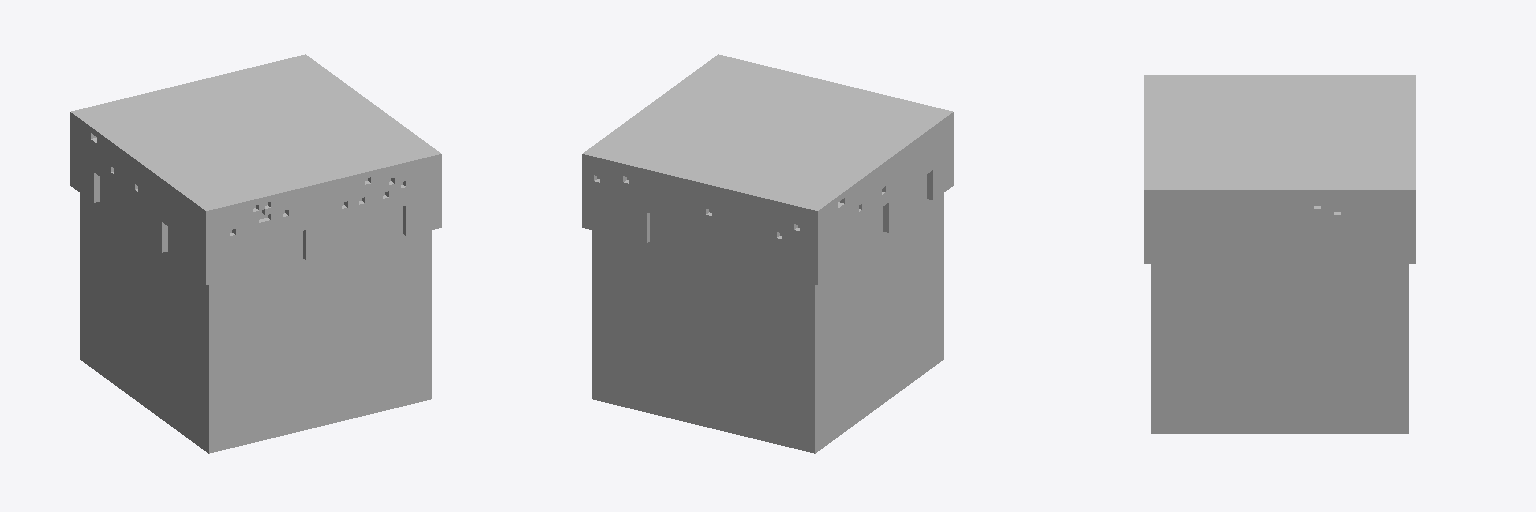
The picture shows the model from 3 angles: view 1: azimuth 30°, elevation 25°; view 2: azimuth 150°, elevation 25°; view 3: azimuth 270°, elevation 25°; orthographic projection.
Parts seen in each view (by area): view 1: test; view 2: test; view 3: test.
Boxes of the visible parts, box(x1,y1,x2,y2) form: test: box(70, 54, 441, 453); test: box(582, 54, 953, 453); test: box(1144, 75, 1415, 433).
Size of the model in its own units: 40 by 40 by 40.